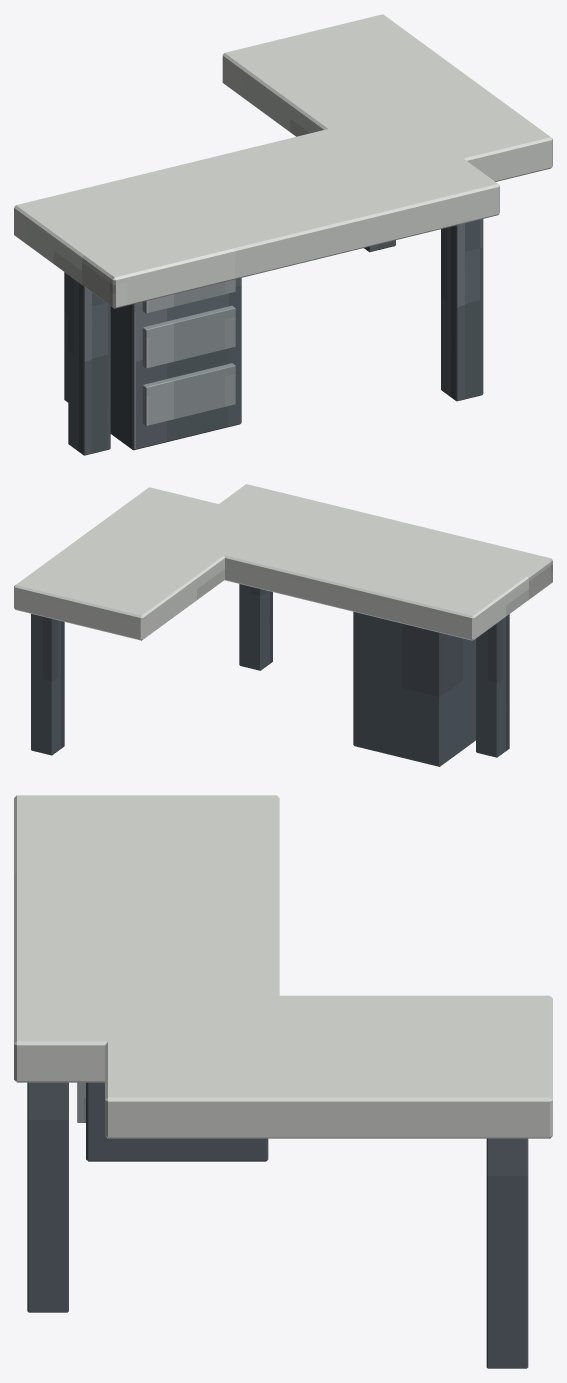
The model's file is office_corner_workstation.glb.
3 views of the same model, one above another, from view 1: azimuth 30°, elevation 25°; view 2: azimuth 150°, elevation 25°; view 3: azimuth 270°, elevation 25° (orthographic). The views are drawn at different scales.
Parts seen in each view (by area): view 1: MainTop, ReturnTop, DrawerPedestal, DeskLeg_0.42_-0.26, DeskLeg_-0.92_0, Drawer_0, Drawer_1, Drawer_2; view 2: MainTop, ReturnTop, DrawerPedestal, DeskLeg_0.77_0.95, DeskLeg_-0.92_0, DeskLeg_0.42_-0.26; view 3: MainTop, ReturnTop, DeskLeg_0.77_0.95, DeskLeg_0.42_-0.26, DrawerPedestal.
Boxes of the visible parts, x1=… form: MainTop: x1=14, y1=113, x2=499, y2=308; ReturnTop: x1=222, y1=14, x2=552, y2=181; DrawerPedestal: x1=64, y1=272, x2=241, y2=450; DeskLeg_0.42_-0.26: x1=441, y1=219, x2=483, y2=401; DeskLeg_-0.92_0: x1=68, y1=275, x2=110, y2=455; Drawer_0: x1=142, y1=363, x2=235, y2=426; Drawer_1: x1=142, y1=305, x2=235, y2=368; Drawer_2: x1=142, y1=279, x2=235, y2=313; MainTop: x1=168, y1=484, x2=552, y2=640; ReturnTop: x1=14, y1=487, x2=274, y2=640; DrawerPedestal: x1=353, y1=612, x2=475, y2=766; DeskLeg_0.77_0.95: x1=31, y1=614, x2=64, y2=755; DeskLeg_-0.92_0: x1=476, y1=614, x2=509, y2=757; DeskLeg_0.42_-0.26: x1=239, y1=584, x2=272, y2=670; MainTop: x1=14, y1=795, x2=279, y2=1082; ReturnTop: x1=105, y1=995, x2=552, y2=1138; DeskLeg_0.77_0.95: x1=486, y1=1138, x2=528, y2=1368; DeskLeg_0.42_-0.26: x1=27, y1=1082, x2=68, y2=1312; DrawerPedestal: x1=86, y1=1082, x2=268, y2=1161.
Size of the model in its own units: 1.9 by 0.81 by 1.42.
1 material, 1 textured.
